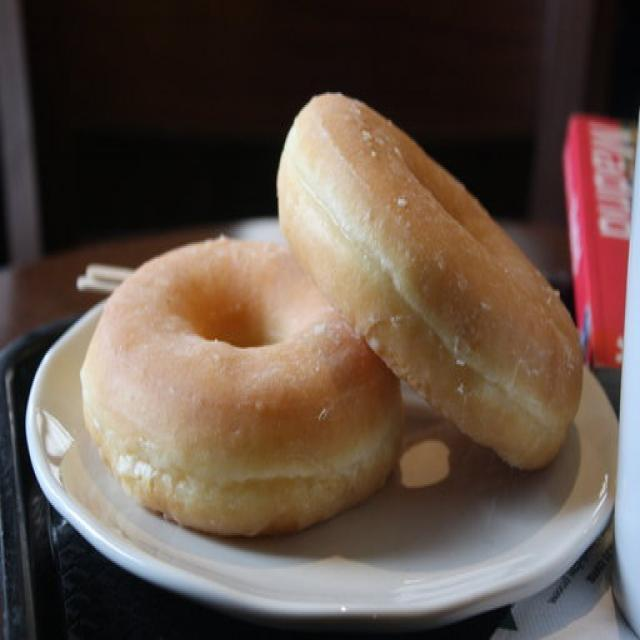Donuts: (74, 77, 596, 633)
